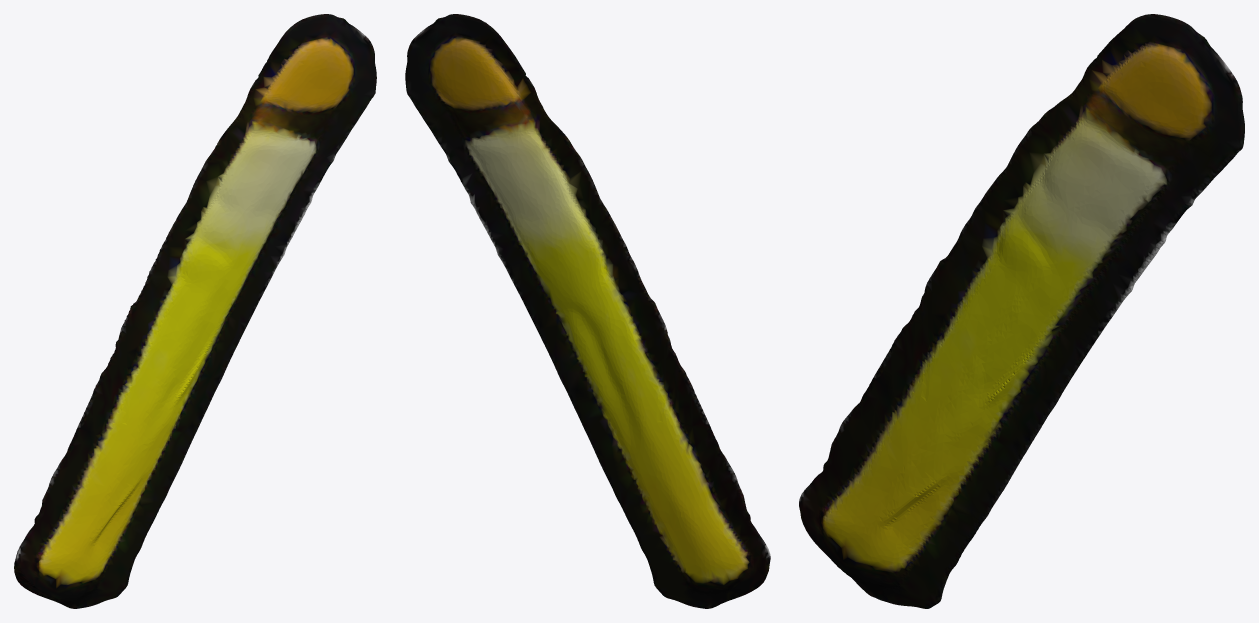
The model's file is vial_yellow.glb.
The picture shows the model from 3 angles, left to right: view 1: azimuth 30°, elevation 25°; view 2: azimuth 150°, elevation 25°; view 3: azimuth 330°, elevation 25°; orthographic projection. The views are drawn at different scales.
Visible parts, largest first — view 1: geometry_0; view 2: geometry_0; view 3: geometry_0.
Boxes of the visible parts, x1,y1,x2,y2 form: geometry_0: (14,14,376,608); geometry_0: (405,14,770,608); geometry_0: (799,14,1244,608).
Size of the model in its own units: 0.3438 by 0.4853 by 0.0179.
